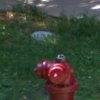Hydrant: (23, 48, 84, 100)
